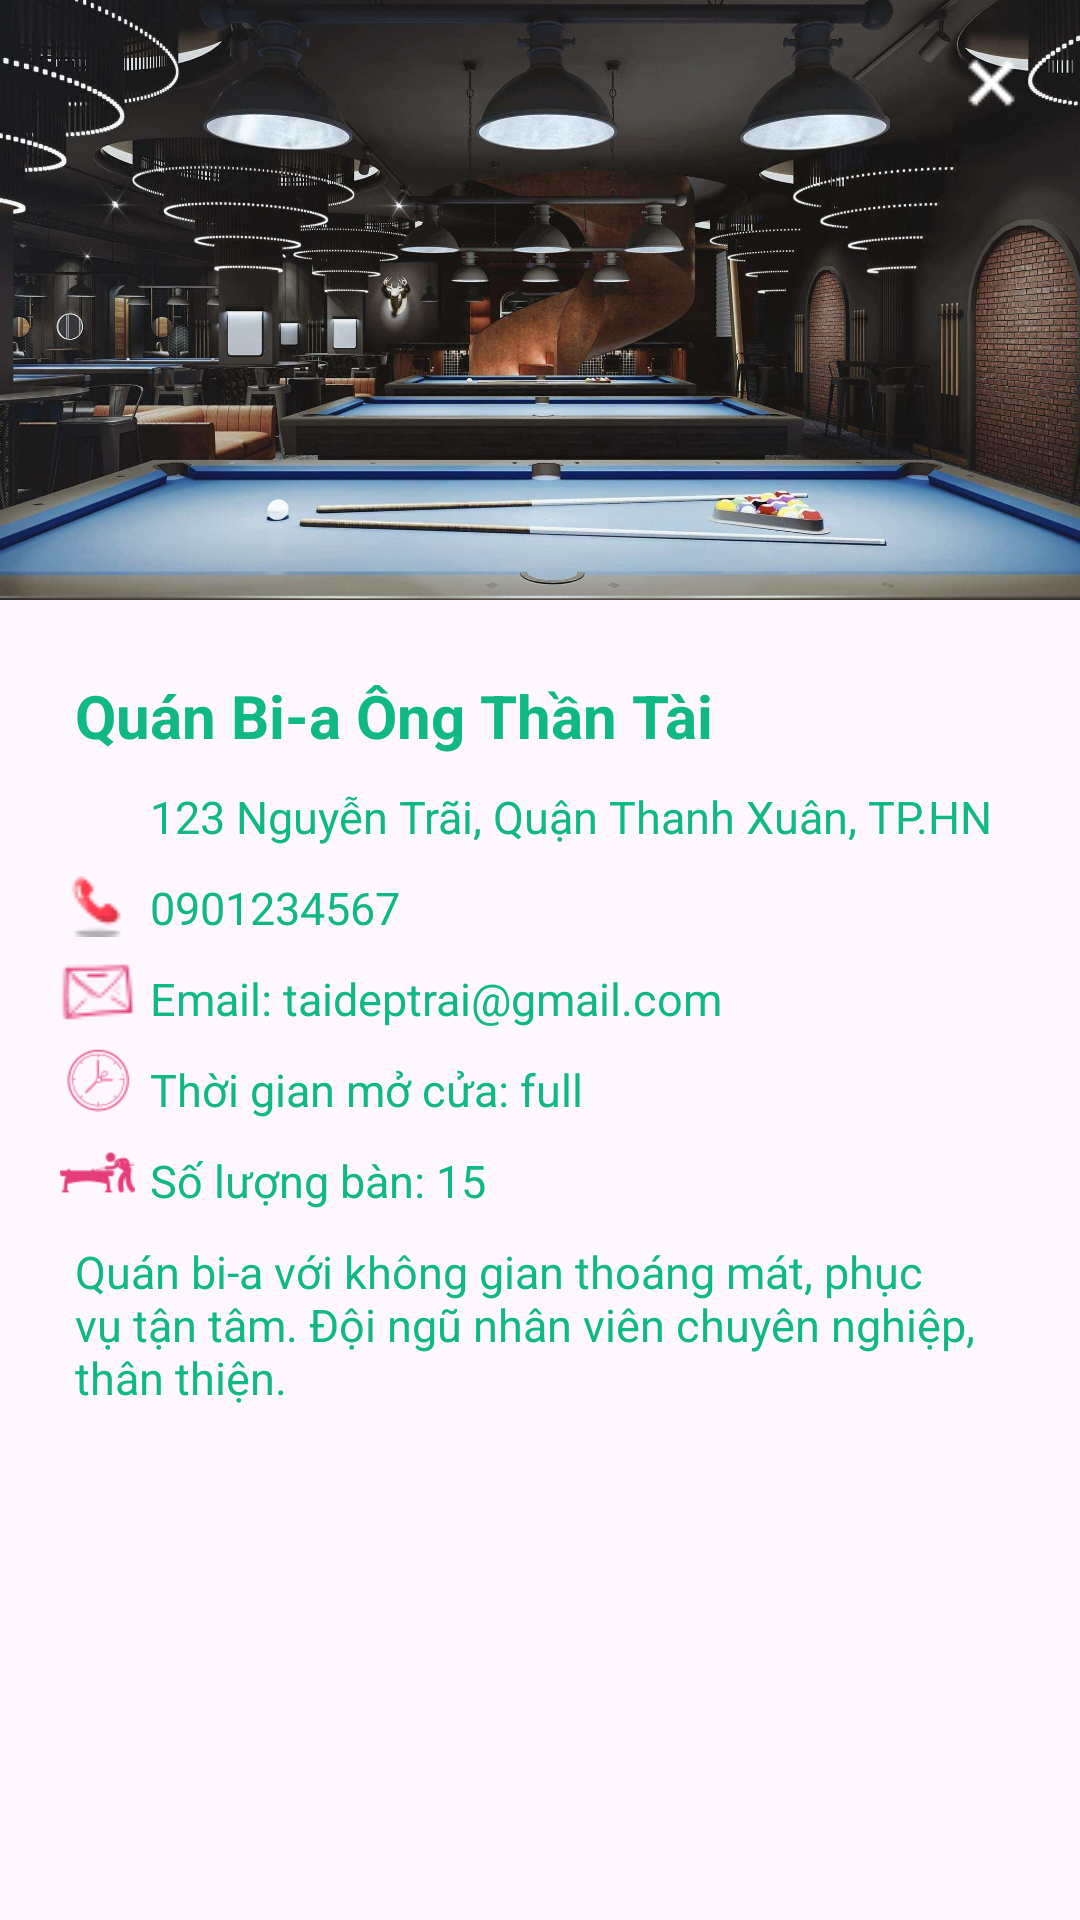

Where icons sit on this 1080w x 1920h app screen, as (x1, y1, x2, y2):
clock: (67, 1049, 129, 1112)
phone: (72, 876, 121, 937)
